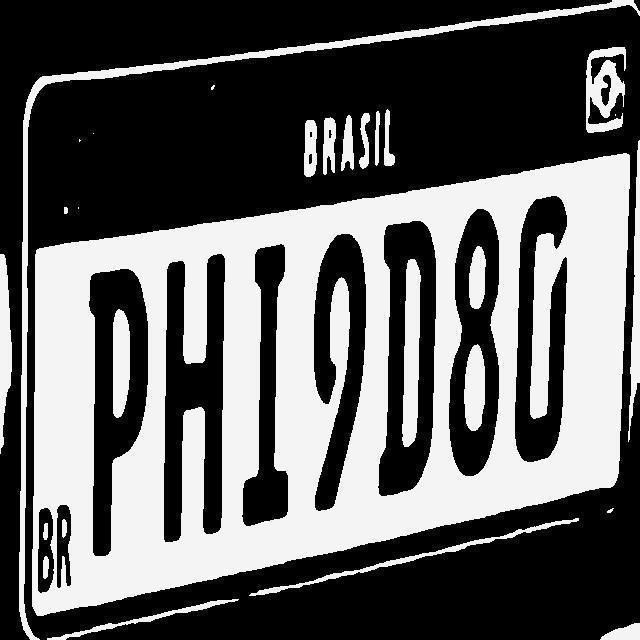0: (508, 196, 576, 464)
8: (446, 203, 506, 478)
9: (303, 231, 376, 510)
d: (367, 221, 446, 495)
h: (146, 255, 232, 551)
i: (230, 243, 298, 531)
p: (76, 269, 150, 564)
